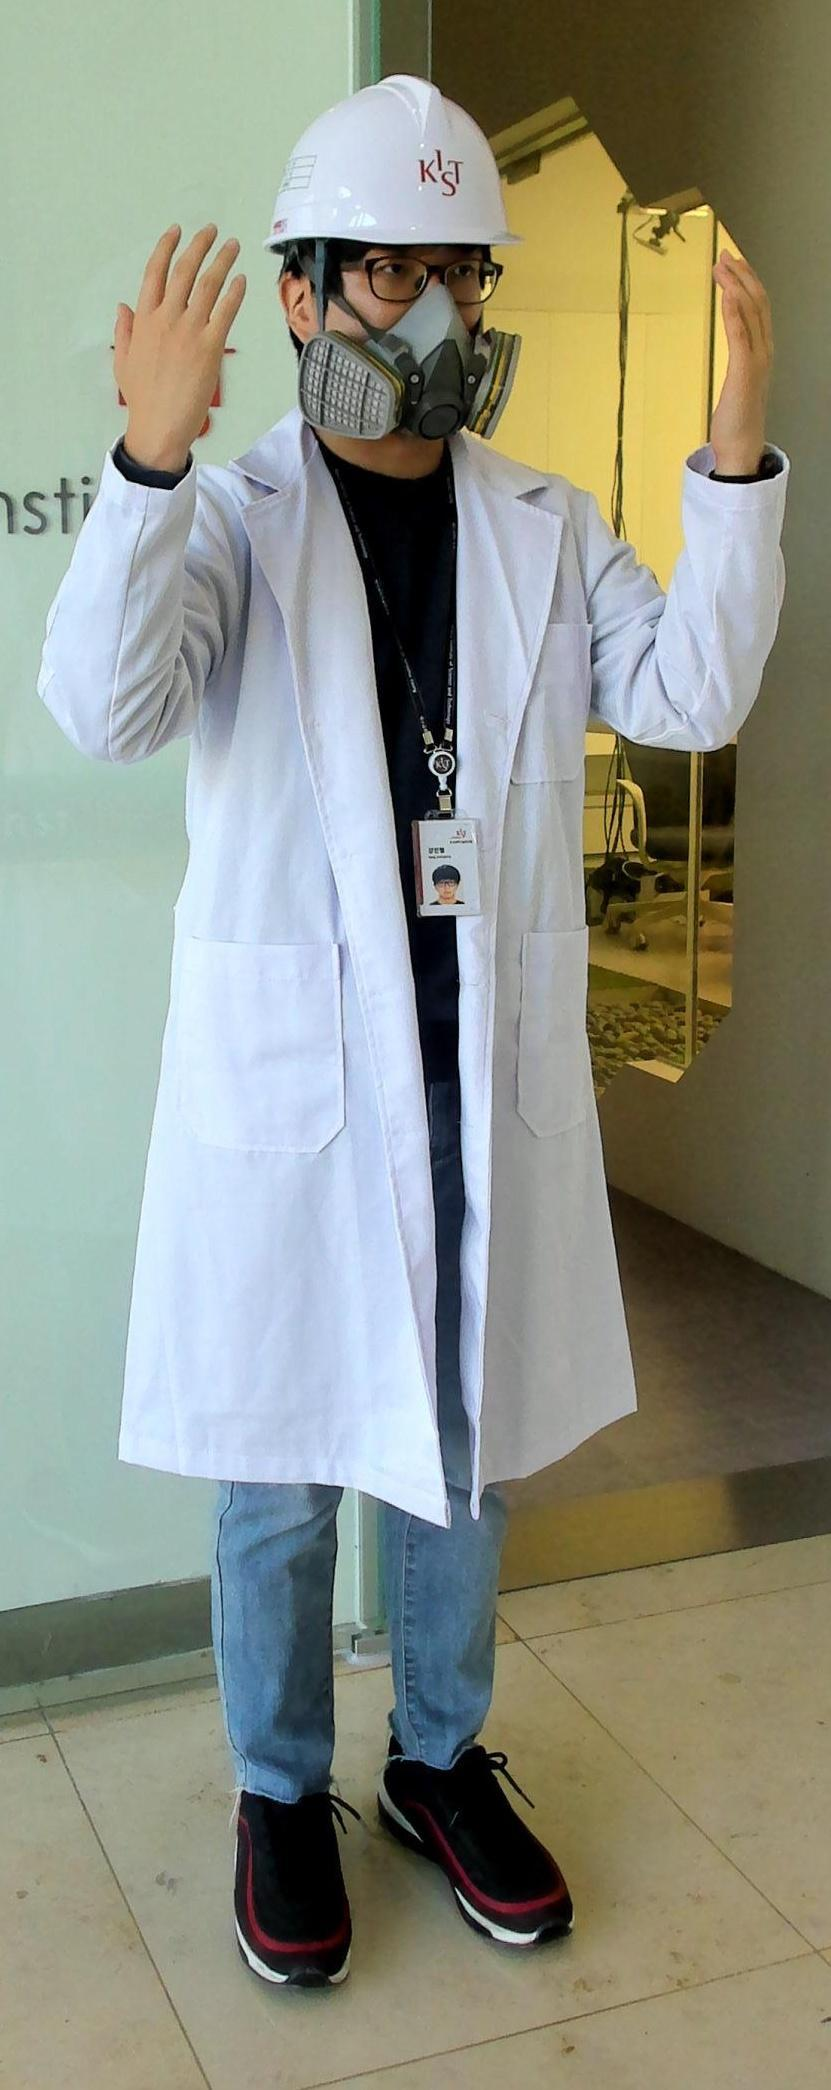lab_coat: (137, 481, 642, 1473)
